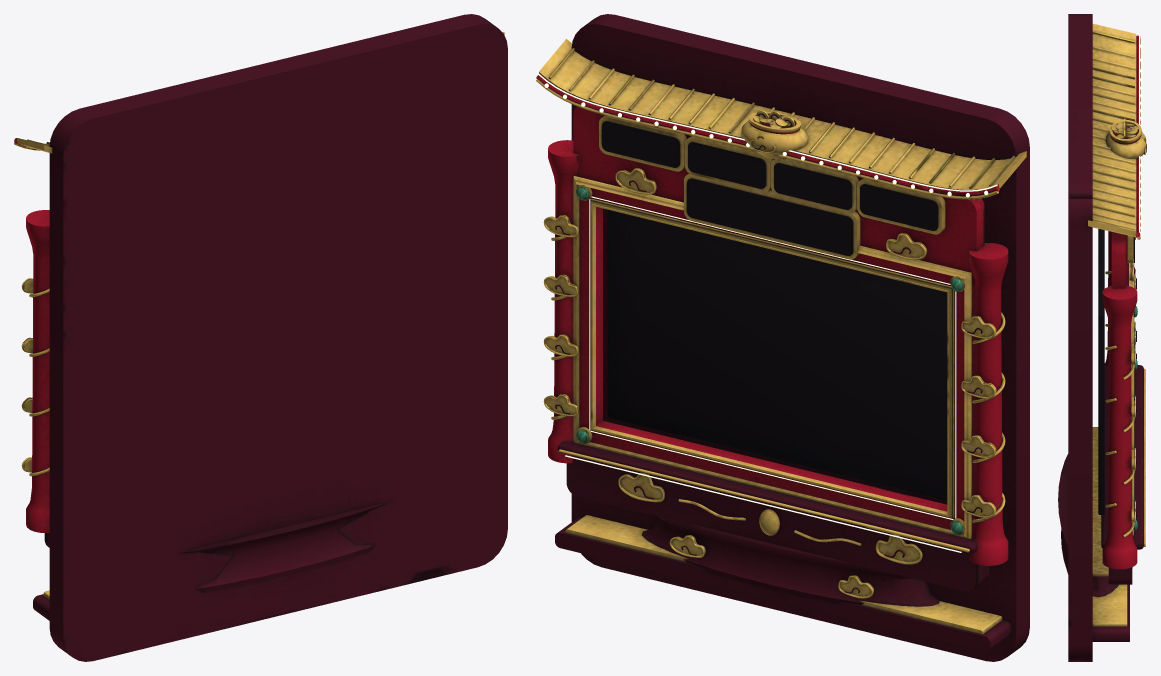
The picture shows the model from 3 angles, left to right: view 1: azimuth 30°, elevation 25°; view 2: azimuth 150°, elevation 25°; view 3: azimuth 270°, elevation 25°; orthographic projection. The views are drawn at different scales.
Parts seen in each view (by area): view 1: Crimson_lacquer, Red_lacquer, Prosperity_gold; view 2: Dark_enamel, Crimson_lacquer, Prosperity_gold, Red_lacquer, glow_warm_bulbs_and_inlays; view 3: Crimson_lacquer, Prosperity_gold, Red_lacquer, Dark_enamel, glow_warm_bulbs_and_inlays.
Boxes of the visible parts, x1,y1,x2,y2 form: Crimson_lacquer: (33,14,507,661); Red_lacquer: (14,138,49,532); Prosperity_gold: (14,32,504,599); Dark_enamel: (601,121,947,500); Crimson_lacquer: (555,14,1029,661); Prosperity_gold: (536,39,1026,634); Red_lacquer: (536,74,1008,565); glow_warm_bulbs_and_inlays: (536,72,997,552); Crimson_lacquer: (1058,14,1146,661); Prosperity_gold: (1088,23,1146,626); Red_lacquer: (1102,35,1141,569); Dark_enamel: (1098,229,1134,514); glow_warm_bulbs_and_inlays: (1139,33,1146,545).
Size of the model in its own units: 8.93 by 10 by 1.69.
6 materials, 5 textured.
